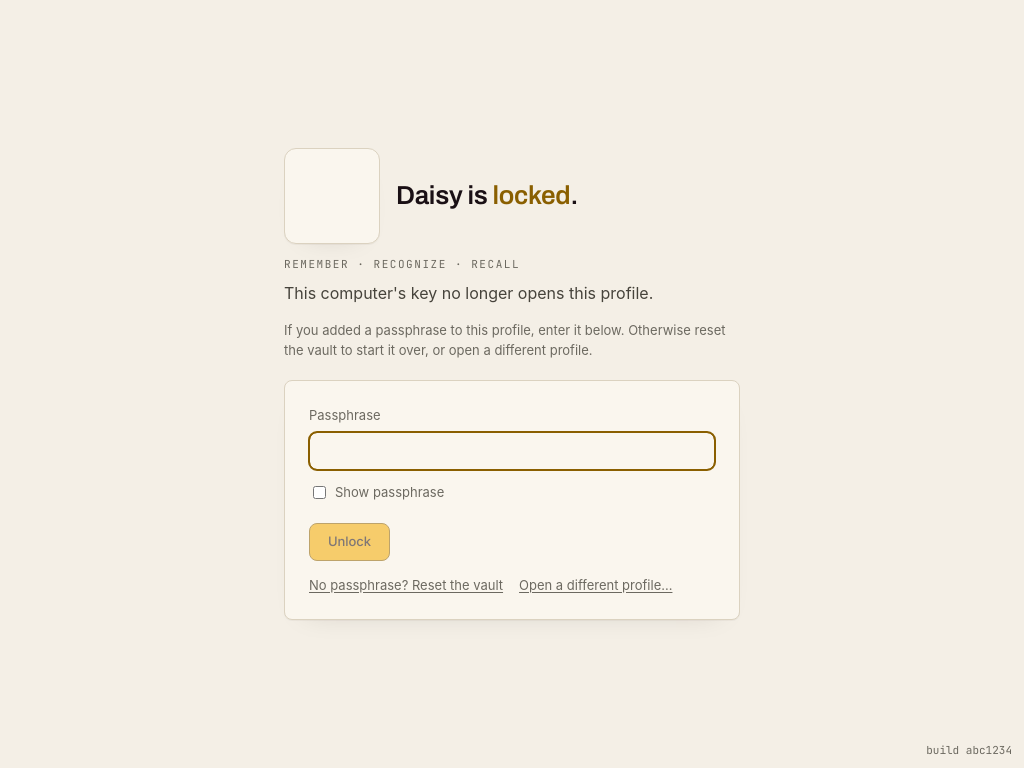
Test case: Unlock › says this computer's key no longer opens a vault it owns, with no trip elsewhere
This screenshot has width=1024, height=768.
Expected: the element with test id "unlock-key-lost" shows "This computer's key no longer opens this profile.", left=284, top=283, right=653, bottom=303
Expected: the element with test id "unlock-key-lost" shows "If you added a passphrase", left=284, top=322, right=726, bottom=358
Step 1. Click the button with test id "unlock-forgot" → (406, 585), box left=309, top=575, right=503, bottom=596
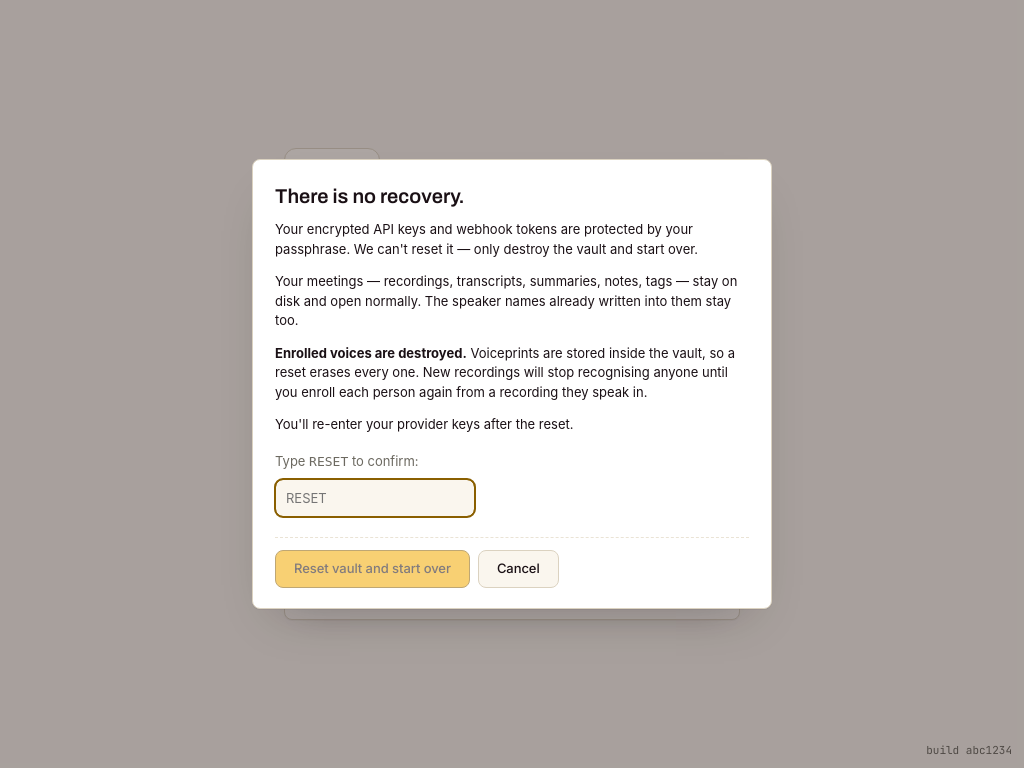
Expected: the element with test id "unlock-reset-modal" is shown, left=252, top=159, right=772, bottom=609
